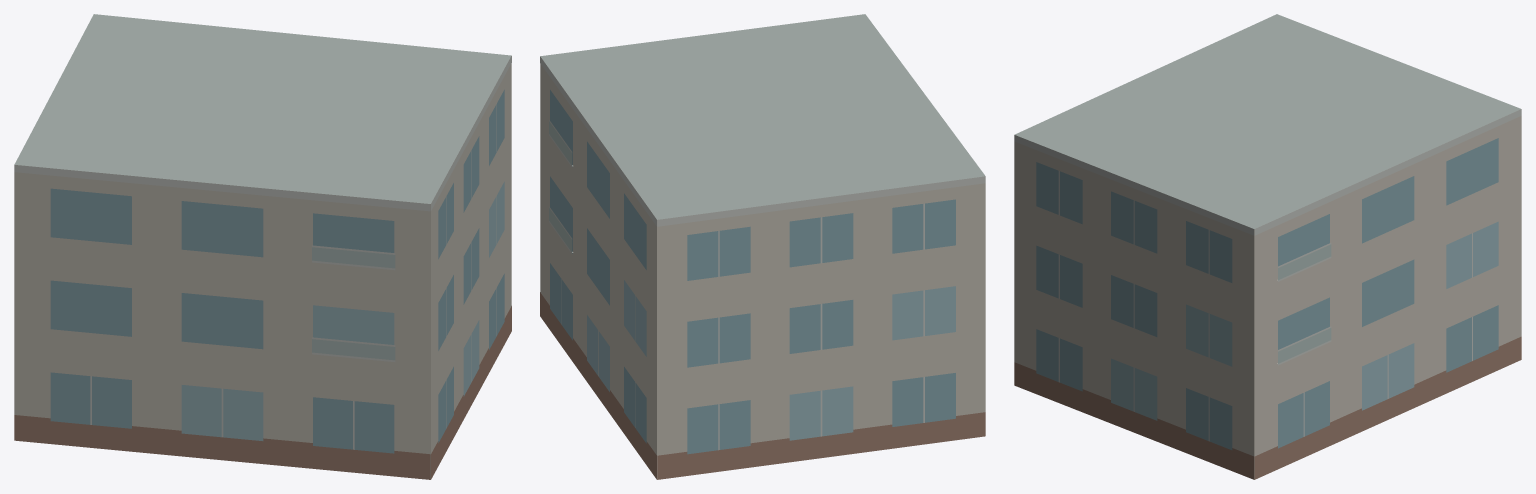
File: survey-upis-32712902.glb
3 views of the same model, side by side, from view 1: azimuth 30°, elevation 25°; view 2: azimuth 150°, elevation 25°; view 3: azimuth 270°, elevation 25° (orthographic). The views are drawn at different scales.
Visible parts, largest first — view 1: survey-upis-32712902.tmp; view 2: survey-upis-32712902.tmp; view 3: survey-upis-32712902.tmp.
Part boxes in pixels (left/top/right/bottom): survey-upis-32712902.tmp: left=14, top=14, right=511, bottom=479; survey-upis-32712902.tmp: left=540, top=14, right=985, bottom=479; survey-upis-32712902.tmp: left=1014, top=14, right=1521, bottom=479.
Size of the model in its own units: 16.85 by 9.15 by 16.79.
